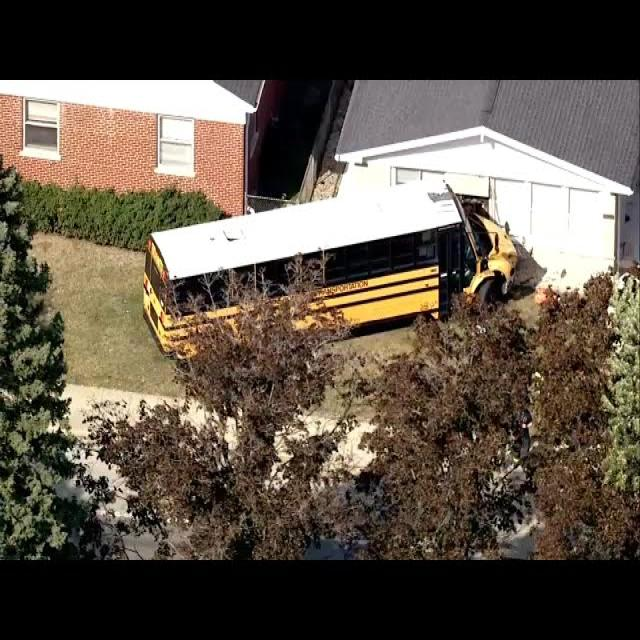Accident: (140, 169, 521, 364)
